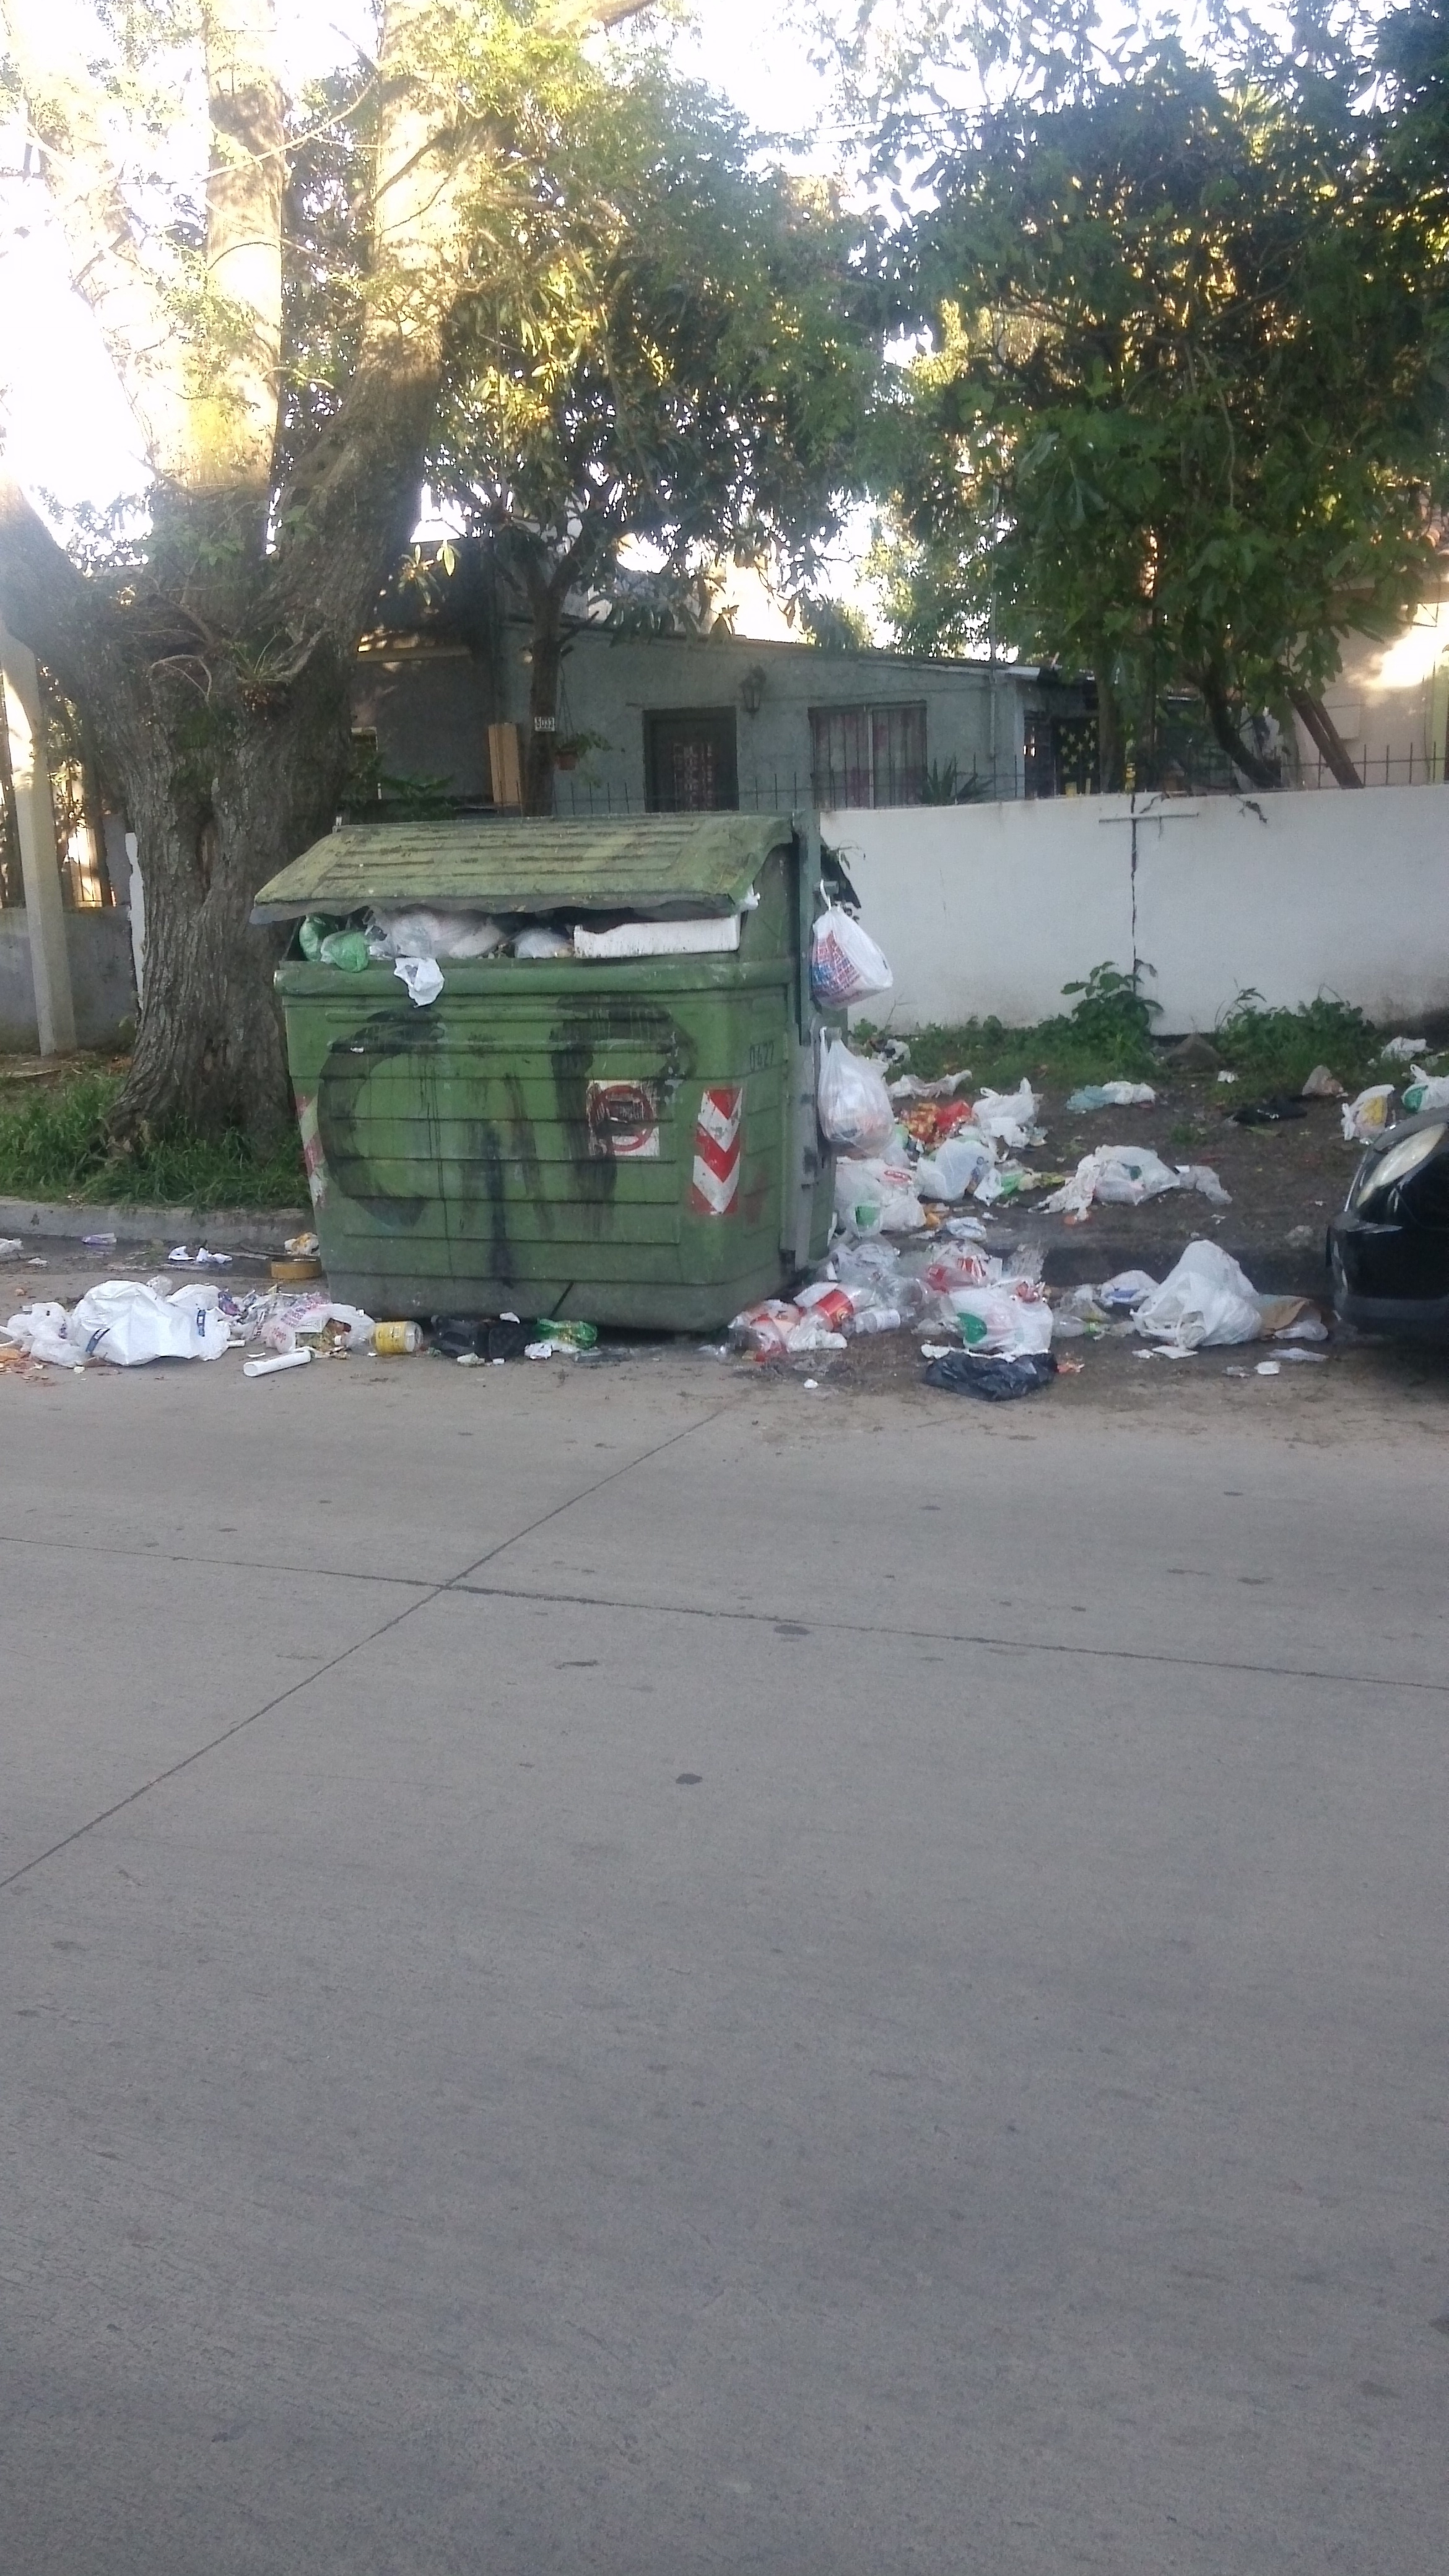container: (241, 817, 853, 1355)
